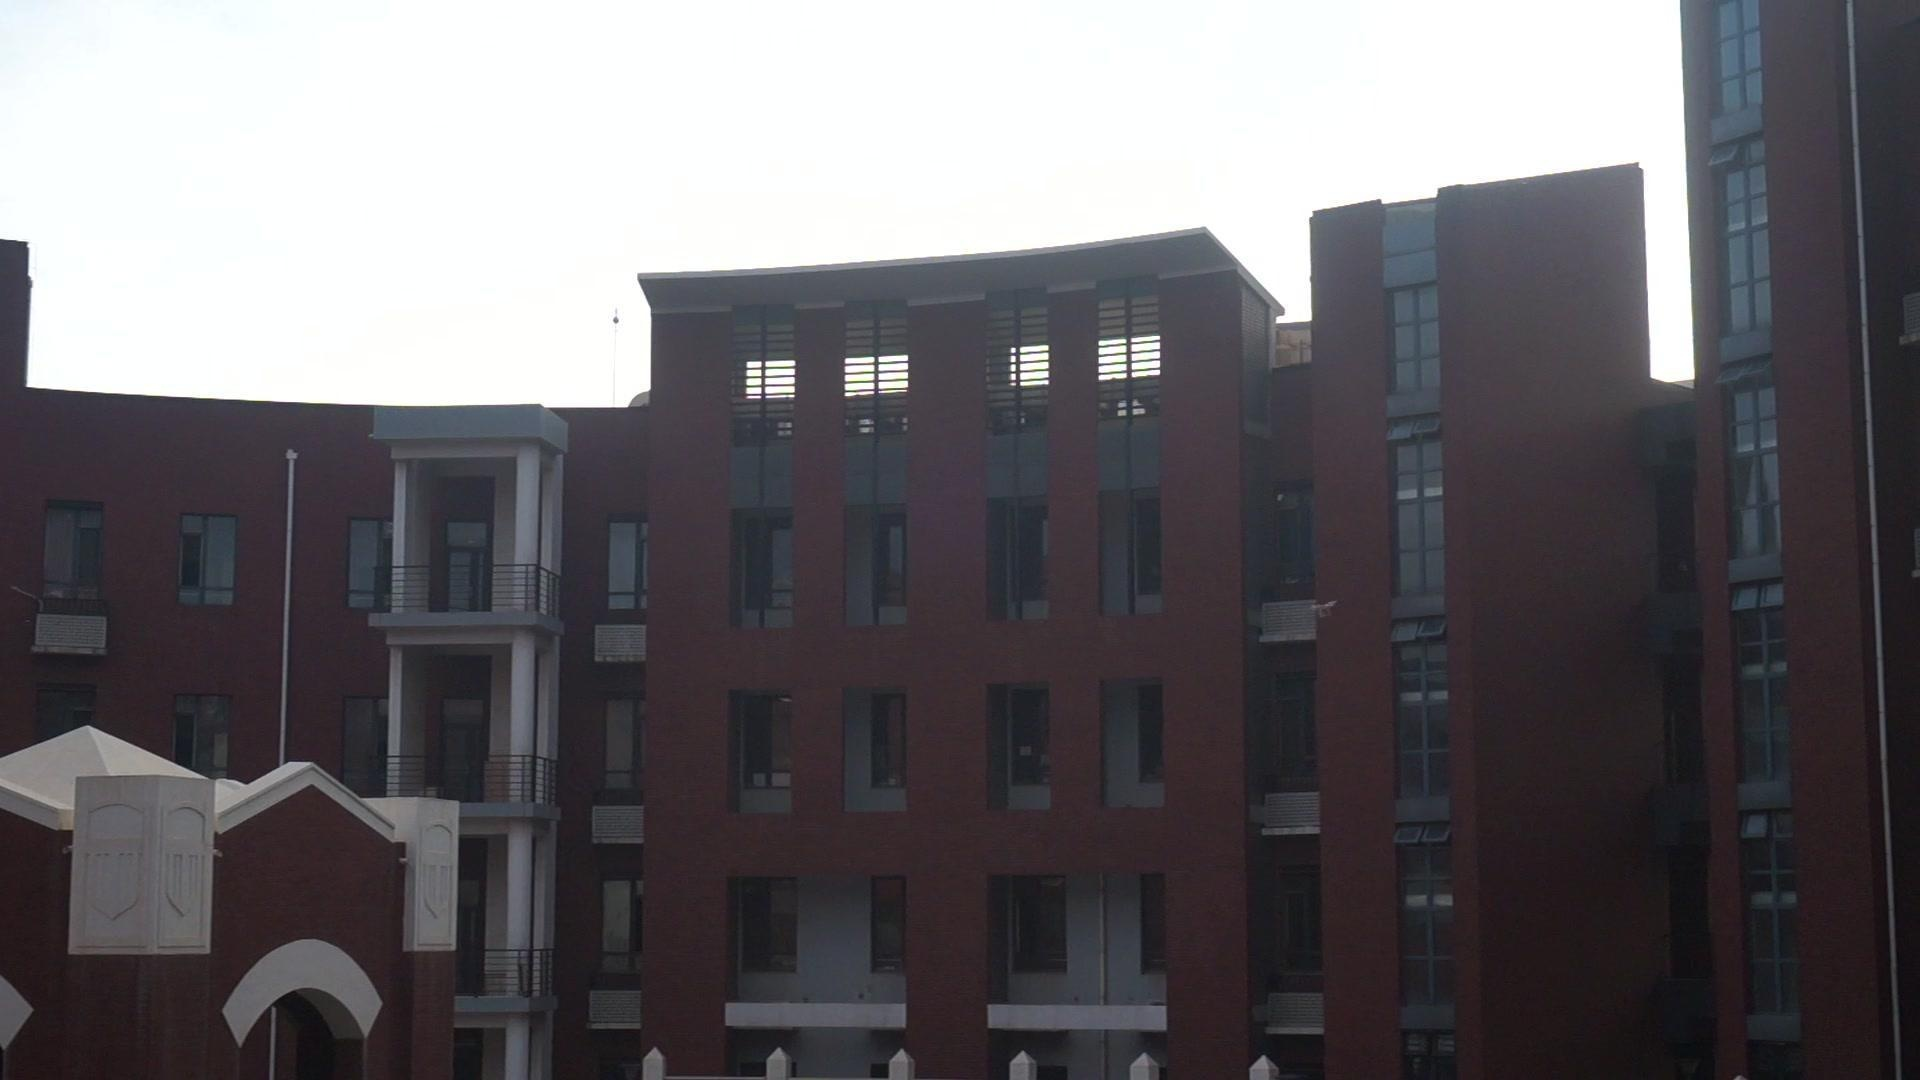UAV: (1312, 601, 1338, 618)
